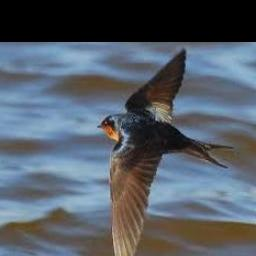Swallow: (97, 48, 233, 256)
